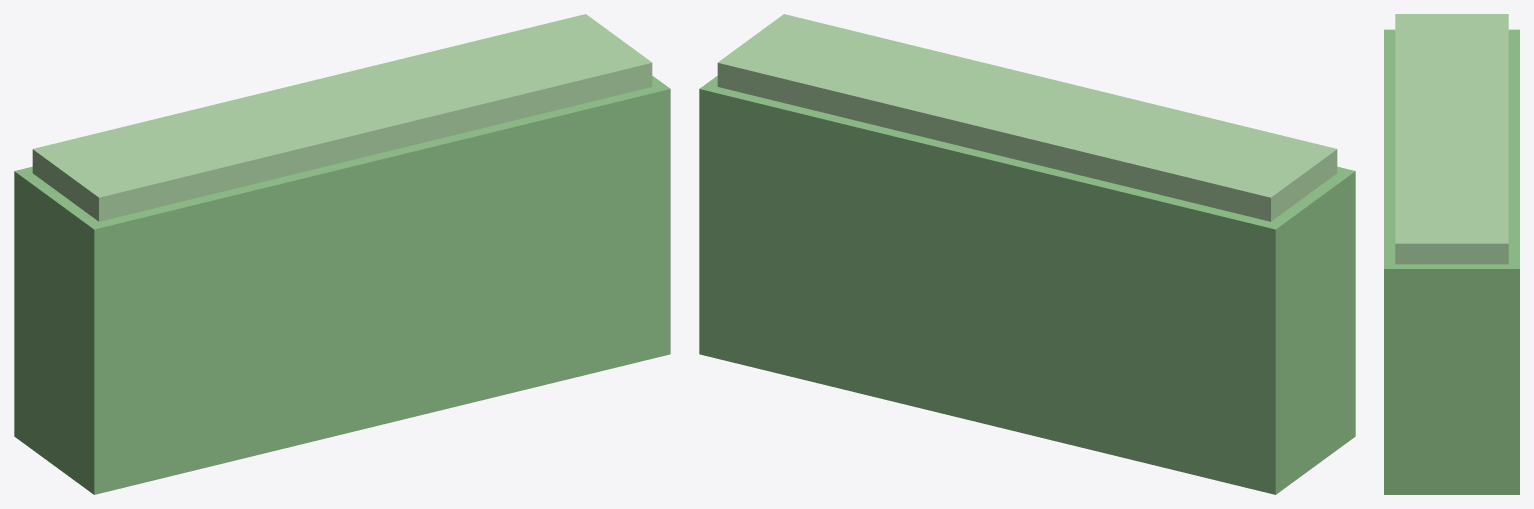
The model's file is Hedge.glb.
The picture shows the model from 3 angles, left to right: view 1: azimuth 30°, elevation 25°; view 2: azimuth 150°, elevation 25°; view 3: azimuth 270°, elevation 25°; orthographic projection. The views are drawn at different scales.
Visible parts, largest first — view 1: model; view 2: model; view 3: model.
Boxes of the visible parts, x1=… form: model: x1=14, y1=14, x2=670, y2=494; model: x1=699, y1=14, x2=1355, y2=494; model: x1=1384, y1=14, x2=1519, y2=494.
Size of the model in its own units: 2.5 by 1.2 by 0.6.
